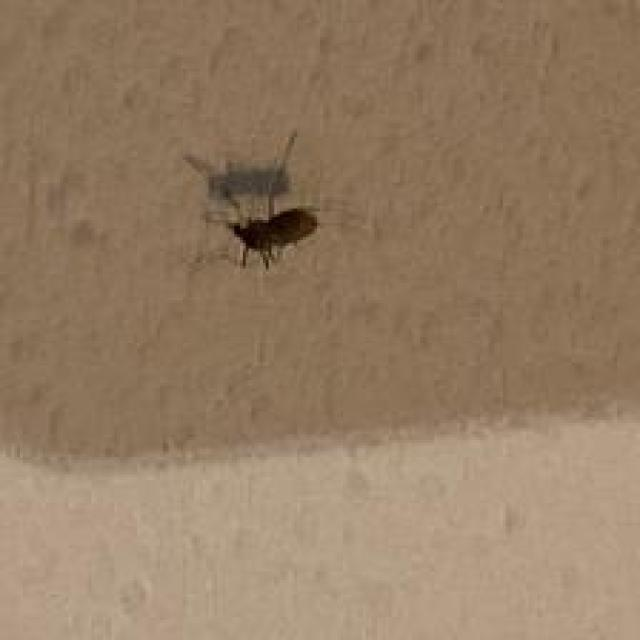Culex: (182, 128, 324, 272)
